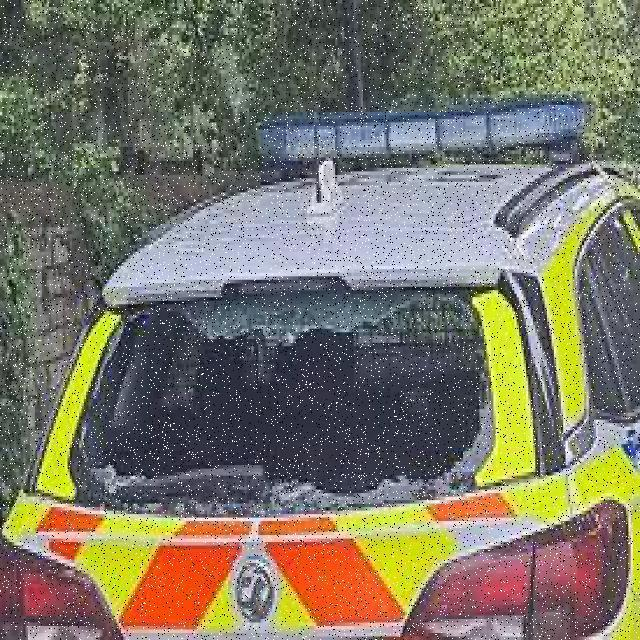Rear-windscreen-Damage: (77, 276, 500, 511)
